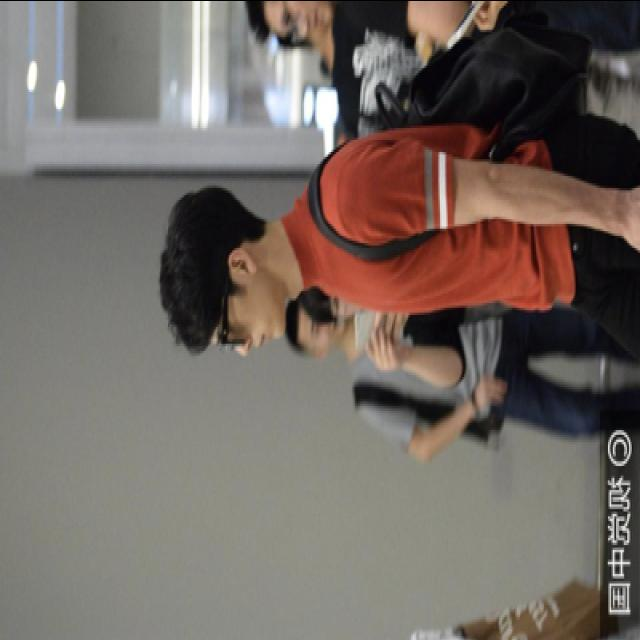no_mask: (212, 266, 290, 357), (307, 294, 347, 352), (277, 0, 336, 38)
